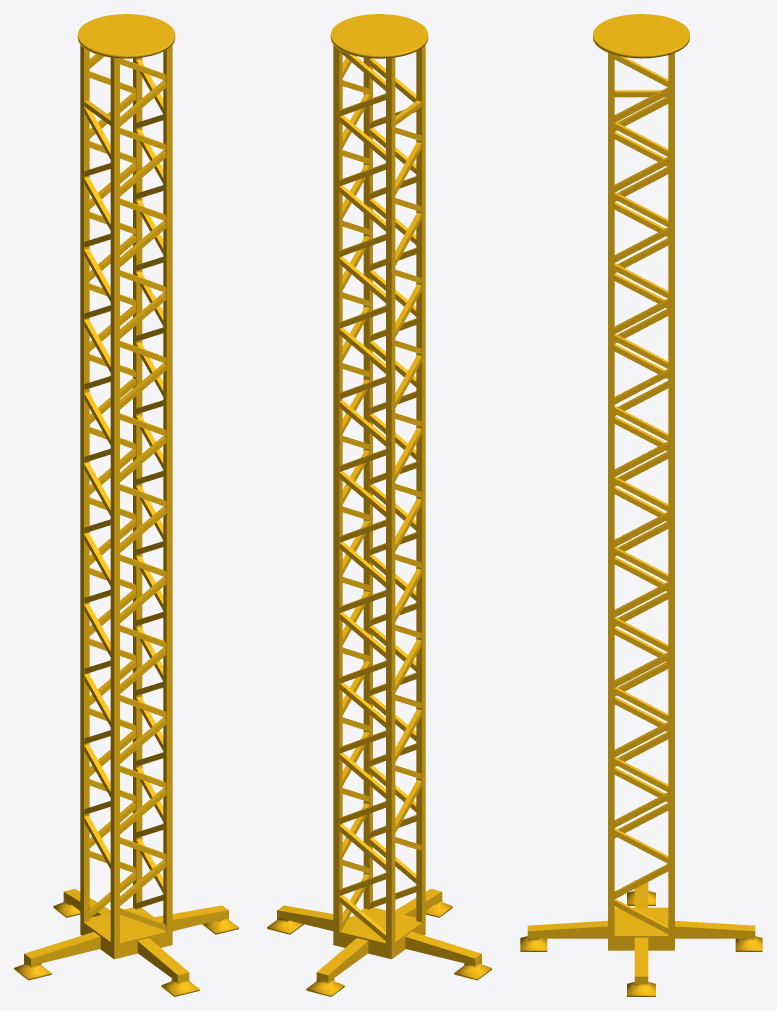
The model's file is unten3.obj.
3 views of the same model, side by side, from view 1: azimuth 30°, elevation 25°; view 2: azimuth 150°, elevation 25°; view 3: azimuth 270°, elevation 25° (orthographic).
Parts seen in each view (by area): view 1: grundbau_ID9.001; view 2: grundbau_ID9.001; view 3: grundbau_ID9.001.
Boxes of the visible parts, box(x1,y1,x2,y2) form: grundbau_ID9.001: box(14, 14, 238, 996); grundbau_ID9.001: box(267, 14, 491, 996); grundbau_ID9.001: box(520, 14, 762, 996).
Size of the model in its own units: 0.2706 by 1.12 by 0.2706.
1 material, 1 textured.
